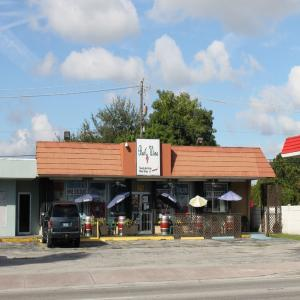Vehicle-registration-plate: (64, 224, 69, 227)
